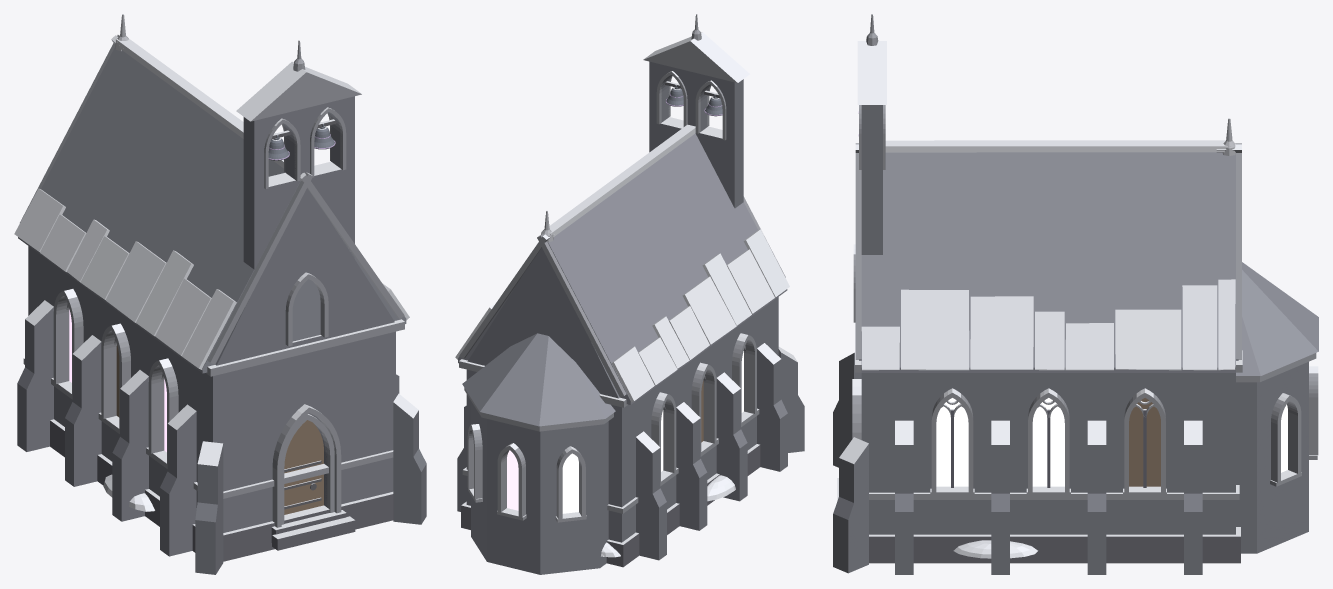
File: AR_Capela_Ressonancia.fbx
The picture shows the model from 3 angles, left to right: view 1: azimuth 30°, elevation 25°; view 2: azimuth 150°, elevation 25°; view 3: azimuth 270°, elevation 25°; orthographic projection. The views are drawn at different scales.
Visible parts, largest first — view 1: AR_Capela_Ressonancia; view 2: AR_Capela_Ressonancia; view 3: AR_Capela_Ressonancia.
Boxes of the visible parts, x1,y1,x2,y2 form: AR_Capela_Ressonancia: (14,14,426,574); AR_Capela_Ressonancia: (455,14,804,574); AR_Capela_Ressonancia: (833,14,1318,574).
Bounding box in the file's own units: 10.4 × 20.7 × 18.16.
